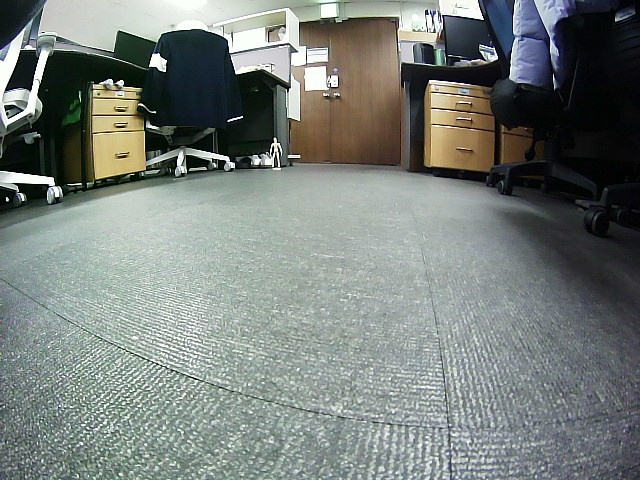person: (269, 137, 283, 167)
